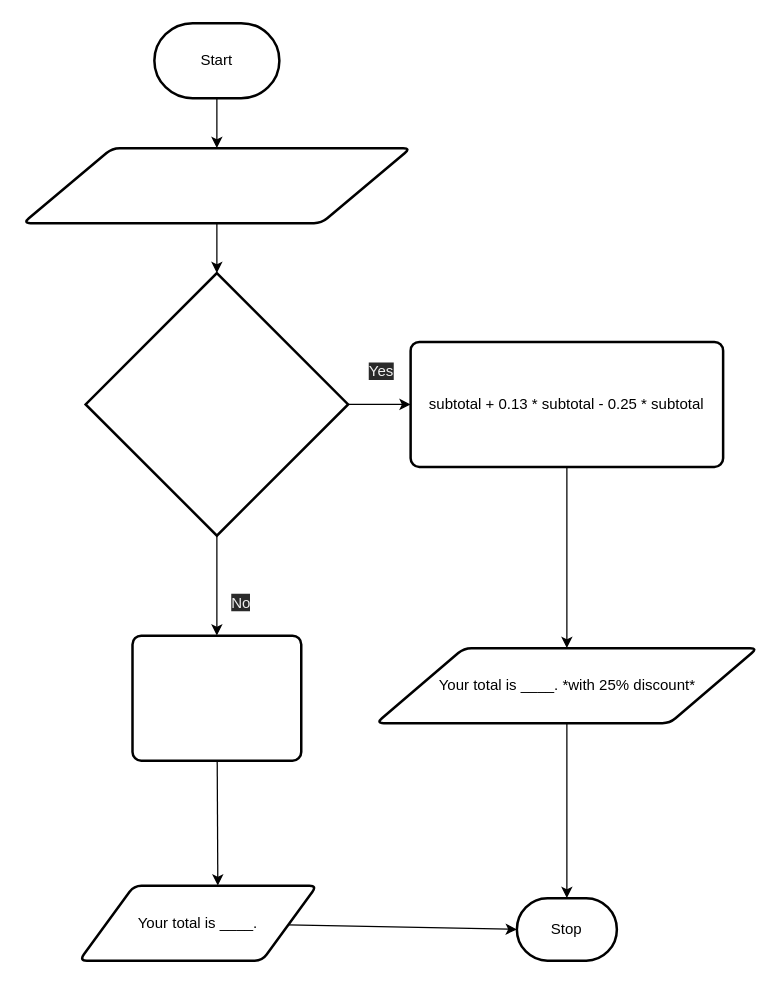
This 780x983 diagram has some shape labels left out. Here are the shapes that lost their labels. From the top down, the centre of each, then its label:
the point at 216,185: Input the coffee size and coffee type
the point at 216,403: if subtotal >= 3.50
the point at 216,697: subtotal + 0.13 * subtotal
